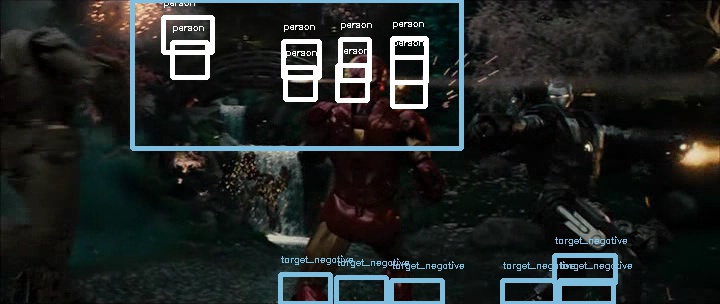person: (337, 50, 389, 99), (336, 50, 388, 99), (338, 50, 390, 99), (337, 49, 389, 98), (337, 51, 389, 100)
target_negative: (565, 62, 706, 165), (274, 222, 589, 267), (33, 95, 692, 105), (578, 32, 622, 160), (389, 211, 628, 218), (539, 41, 545, 121)
